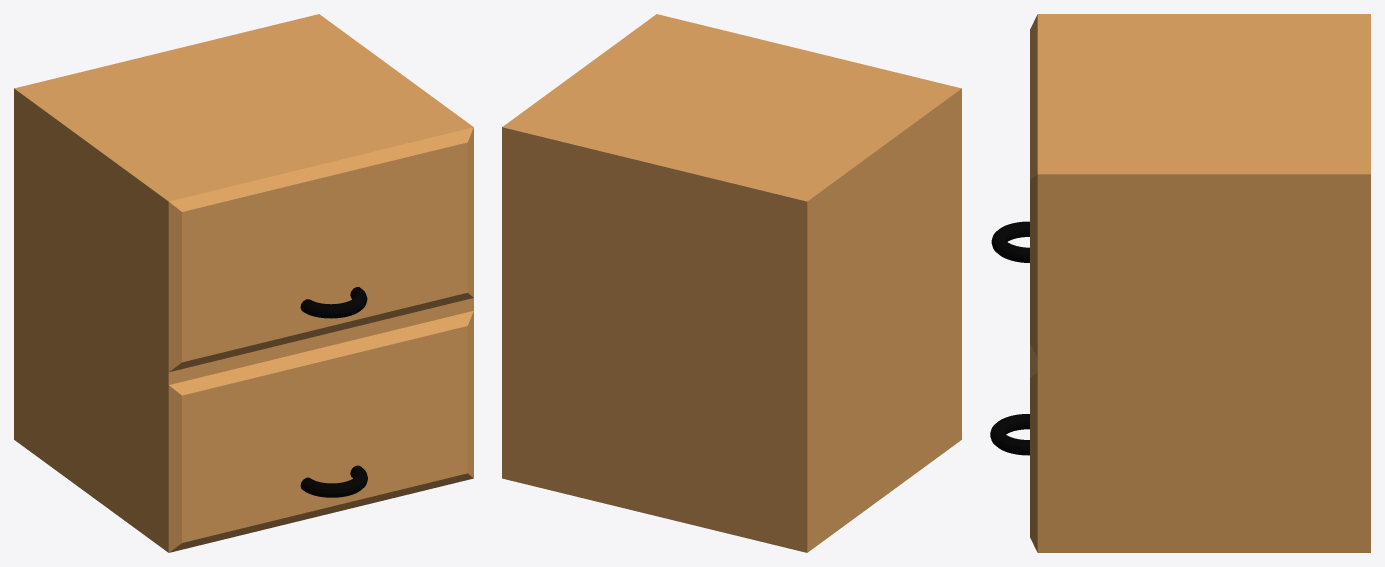
The model's file is UpperCupboardH.fbx.
The picture shows the model from 3 angles, left to right: view 1: azimuth 30°, elevation 25°; view 2: azimuth 150°, elevation 25°; view 3: azimuth 270°, elevation 25°; orthographic projection. The views are drawn at different scales.
Parts seen in each view (by area): view 1: Normal Up Cupboard.001, Torus.005, Torus.006; view 2: Normal Up Cupboard.001; view 3: Normal Up Cupboard.001, Torus.005, Torus.006.
Part boxes in pixels (left/top/right/bottom): Normal Up Cupboard.001: left=14, top=14, right=473, bottom=552; Torus.005: left=300, top=465, right=367, bottom=497; Torus.006: left=300, top=287, right=367, bottom=318; Normal Up Cupboard.001: left=502, top=14, right=961, bottom=552; Normal Up Cupboard.001: left=1030, top=14, right=1370, bottom=552; Torus.005: left=990, top=414, right=1029, bottom=455; Torus.006: left=991, top=221, right=1029, bottom=262.
Size of the model in its own units: 127 by 126 by 139.
